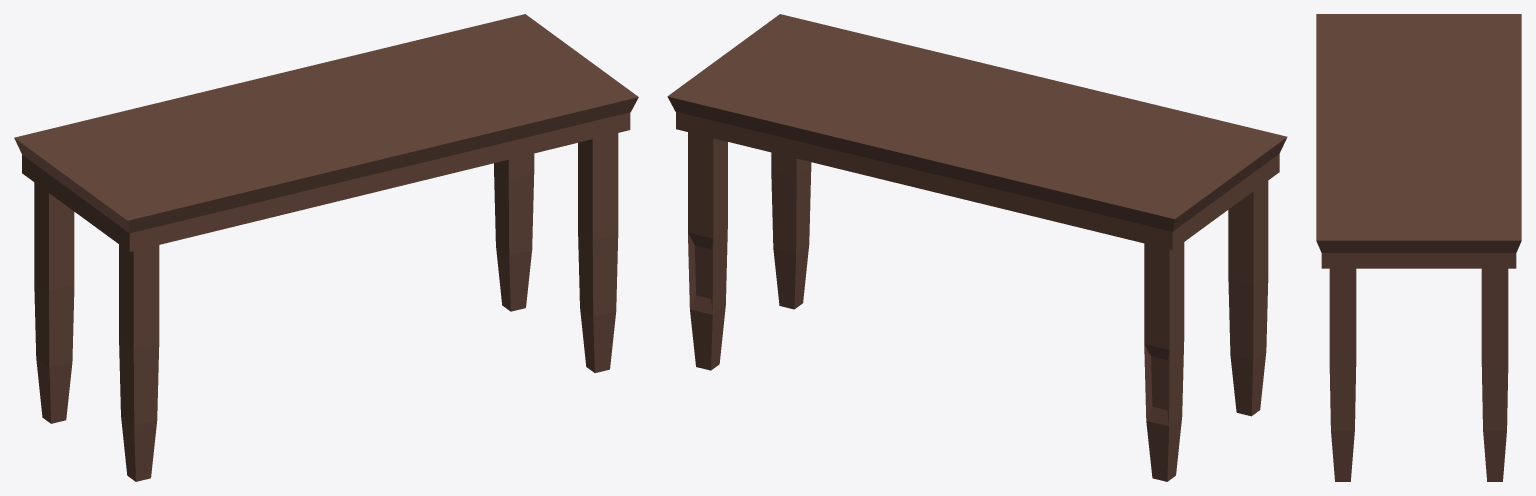
The model's file is table_04.gltf.
3 views of the same model, side by side, from view 1: azimuth 30°, elevation 25°; view 2: azimuth 150°, elevation 25°; view 3: azimuth 270°, elevation 25° (orthographic). The views are drawn at different scales.
Parts seen in each view (by area): view 1: node_MeshObject-4211456-PolyPaper20; view 2: node_MeshObject-4211456-PolyPaper20; view 3: node_MeshObject-4211456-PolyPaper20.
Boxes of the visible parts, x1,y1,x2,y2 form: node_MeshObject-4211456-PolyPaper20: (14,14,638,481); node_MeshObject-4211456-PolyPaper20: (667,14,1287,481); node_MeshObject-4211456-PolyPaper20: (1316,14,1521,481).
Size of the model in its own units: 2.13 by 1.1 by 0.8211.
